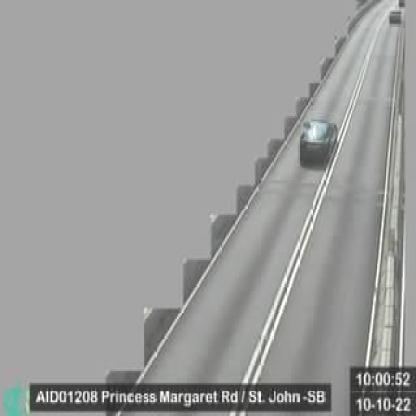Car: (300, 119, 338, 165), (390, 9, 402, 25)
